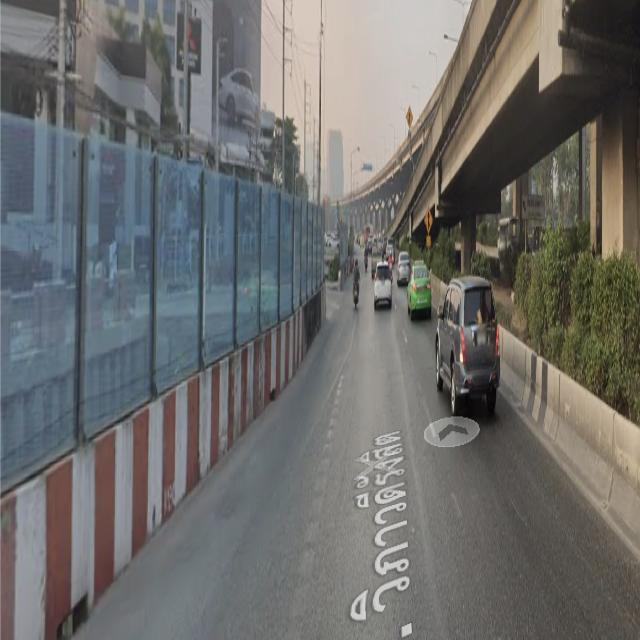fallen_object: (0, 427, 152, 629), (107, 363, 236, 524), (200, 296, 315, 416)
